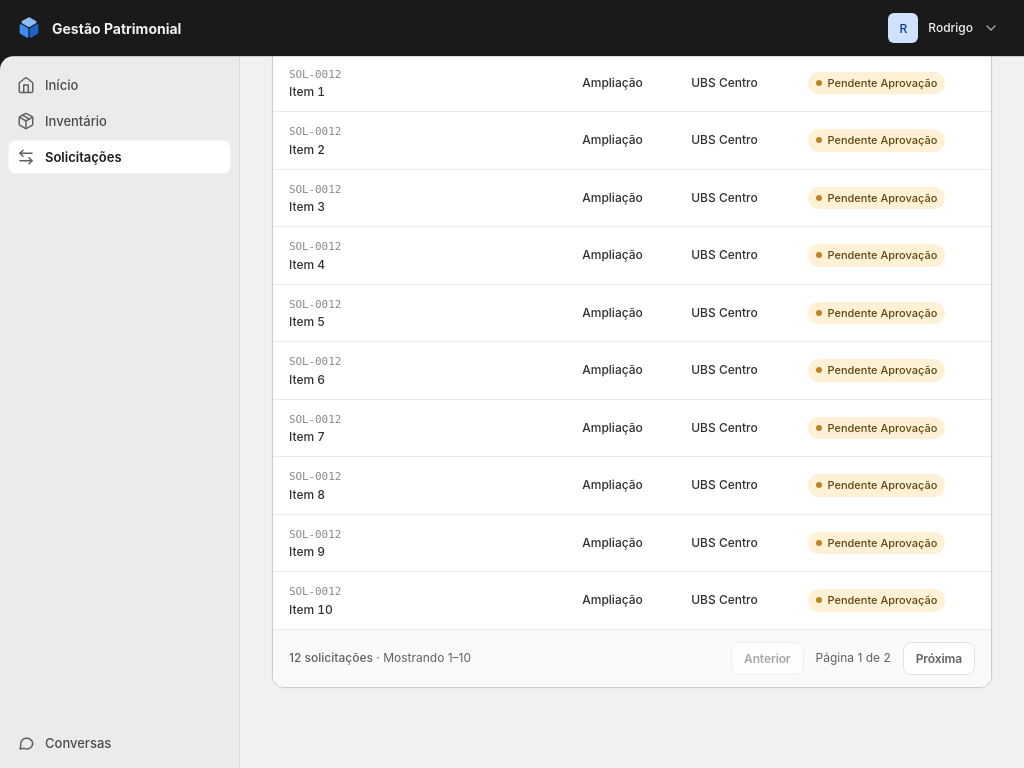
it: pagina solicitações e abre o detalhe em página própria pelo teclado
The width and height of the screenshot is (1024, 768).
(page scrolled)
Expected: the link "Item 1" is shown, [289,84,325,99]
Expected: the text "Item 11" is not shown
Click the button with aria-label "Próxima página". click: [939, 658]
box: [903,642,975,674]
(page scrolled)
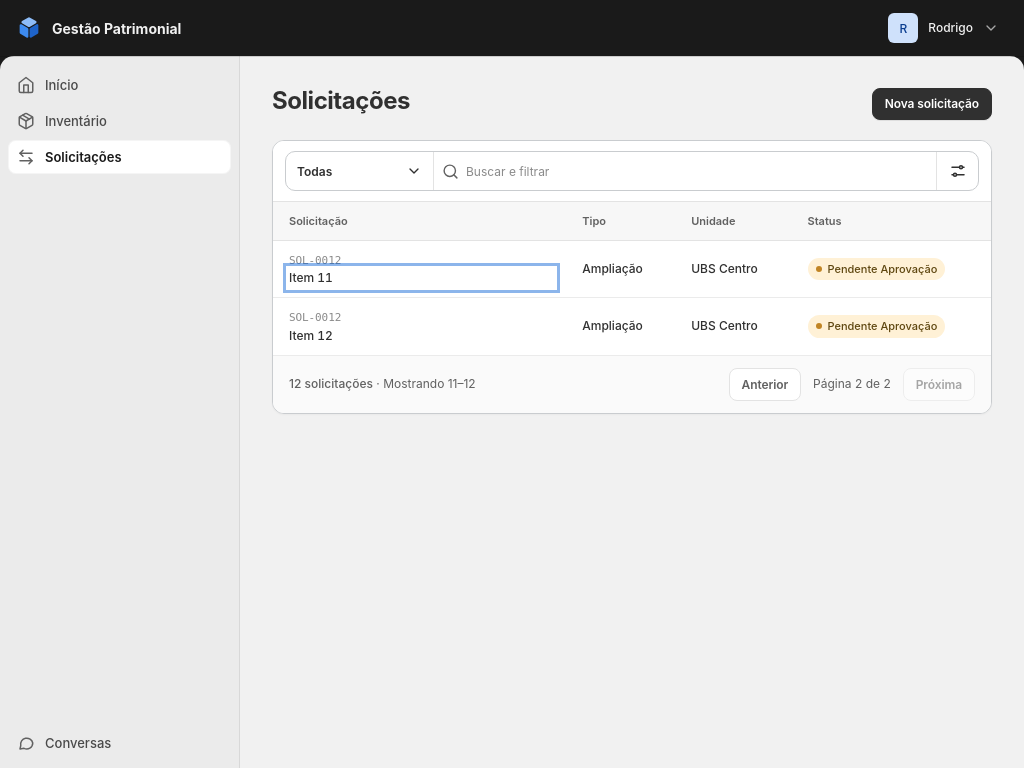
Result: the link "Item 11" is shown at [289,270,333,285]
Result: the button with aria-label "Próxima página" is disabled at [903,368,975,400]
Press Enter
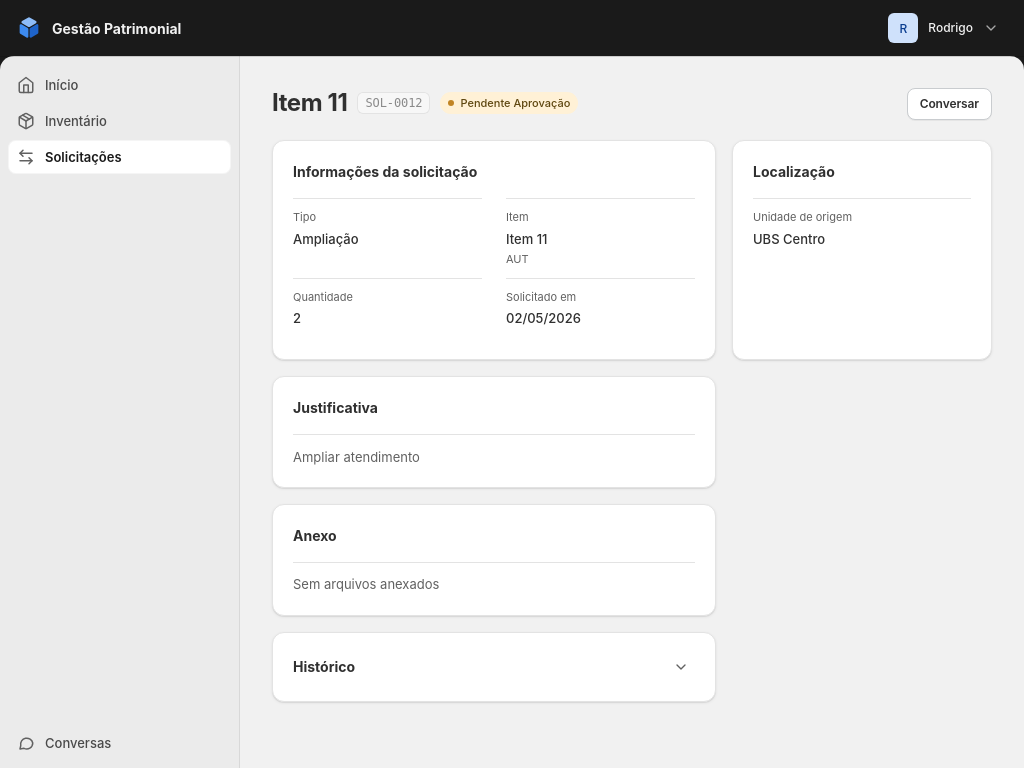
Result: the heading "Item 11" is shown at [272,88,347,118]
Result: the text "Ampliar atendimento" is shown at [293,434,695,467]
